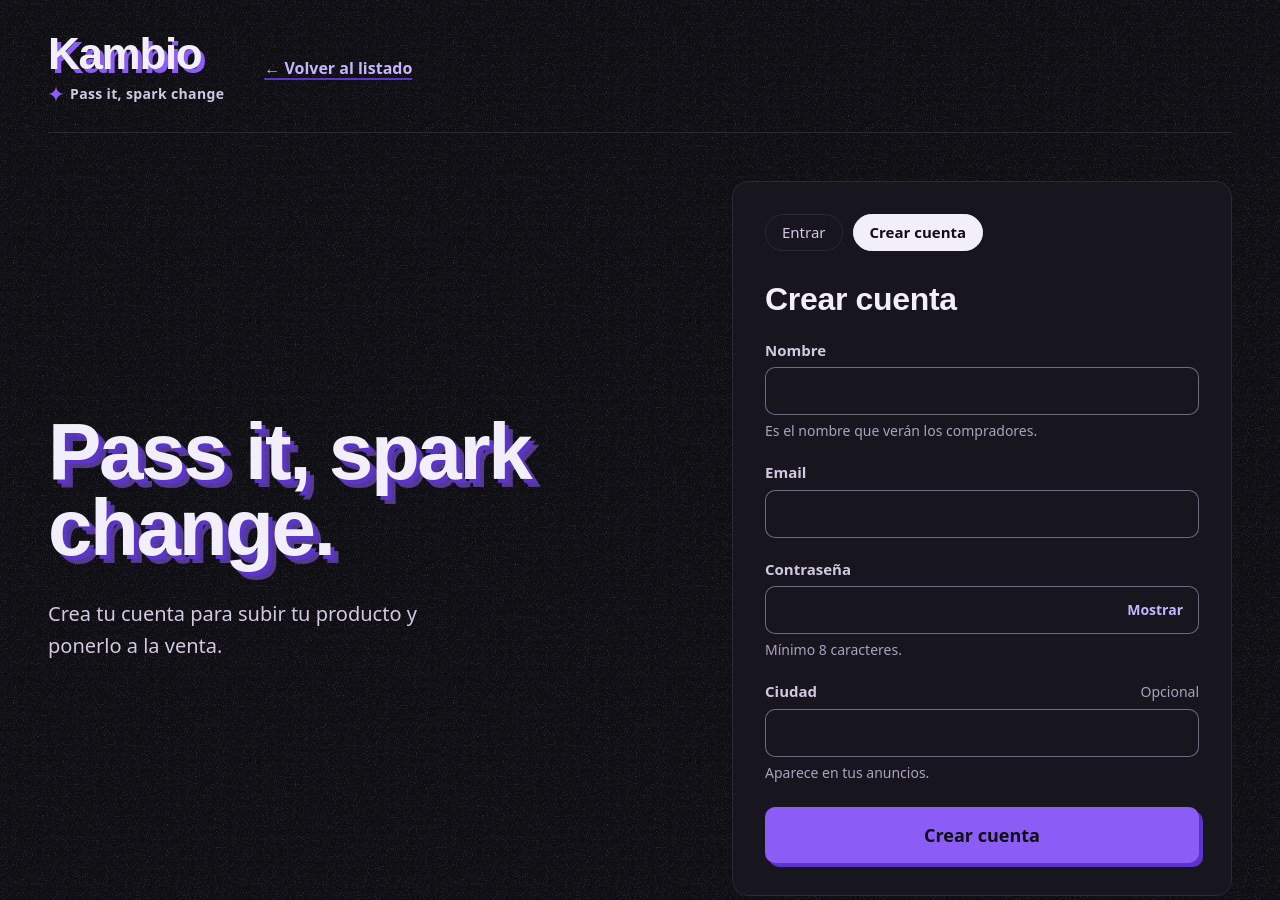
Test: RegisterPage › un email ya registrado se avisa en el campo del email
Type "Ana" into the field labelled "Nombre". click: (982, 391)
box: [765, 367, 1199, 415]
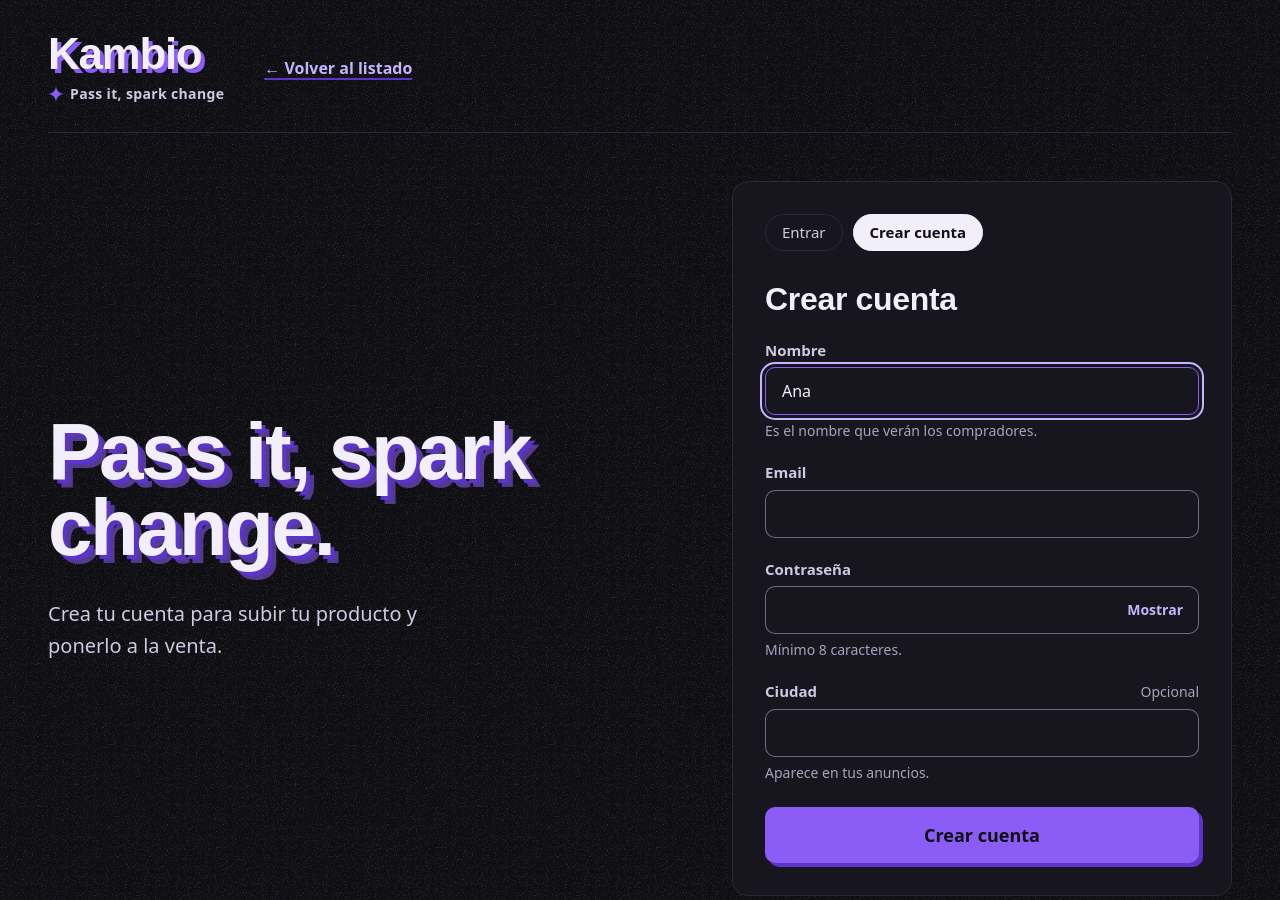
Type "ana@correo.com" into the field labelled "Email". click: (982, 514)
box: [765, 490, 1199, 538]
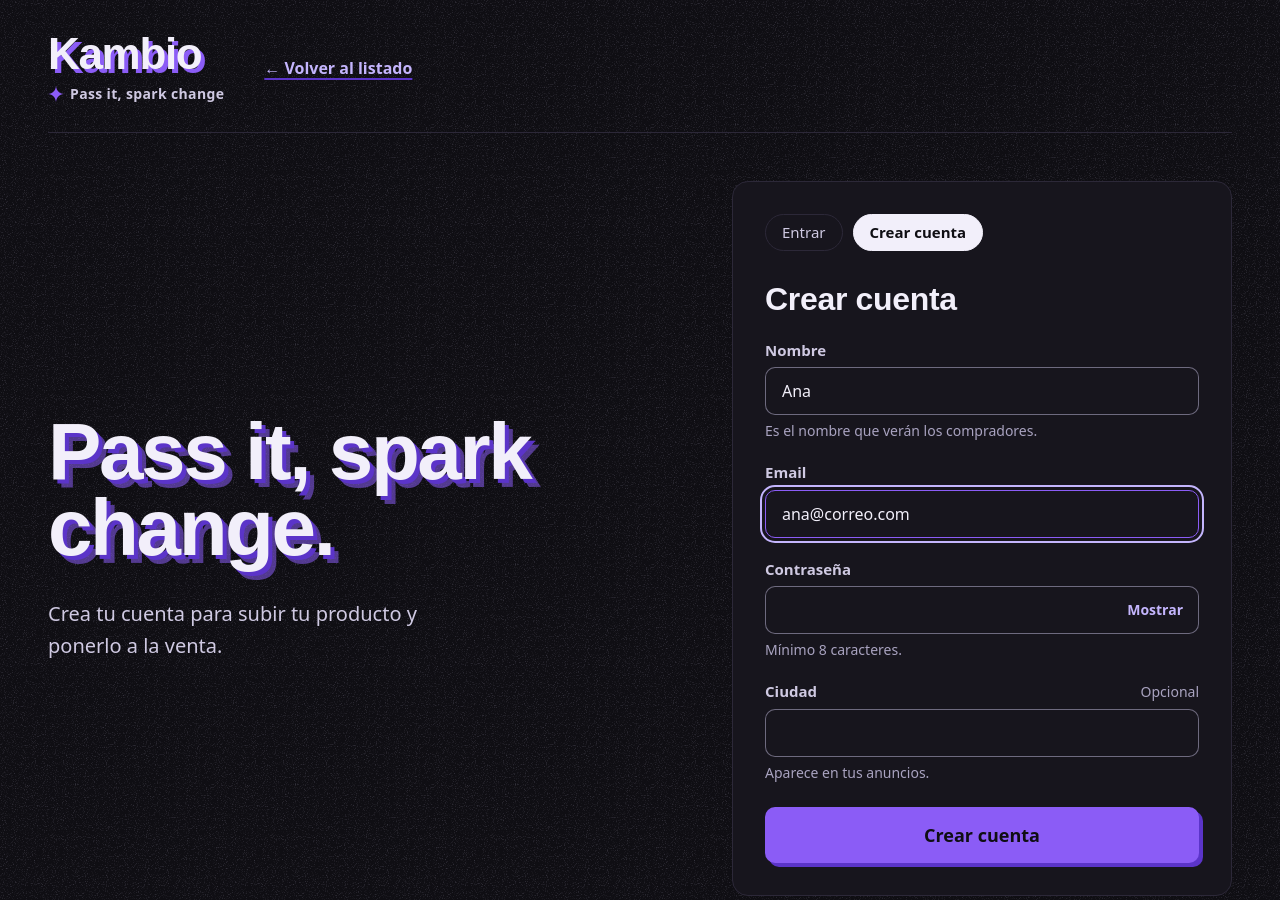
Type "secreto123" into the password field labelled "Contraseña". click: (982, 610)
box: [765, 586, 1199, 634]
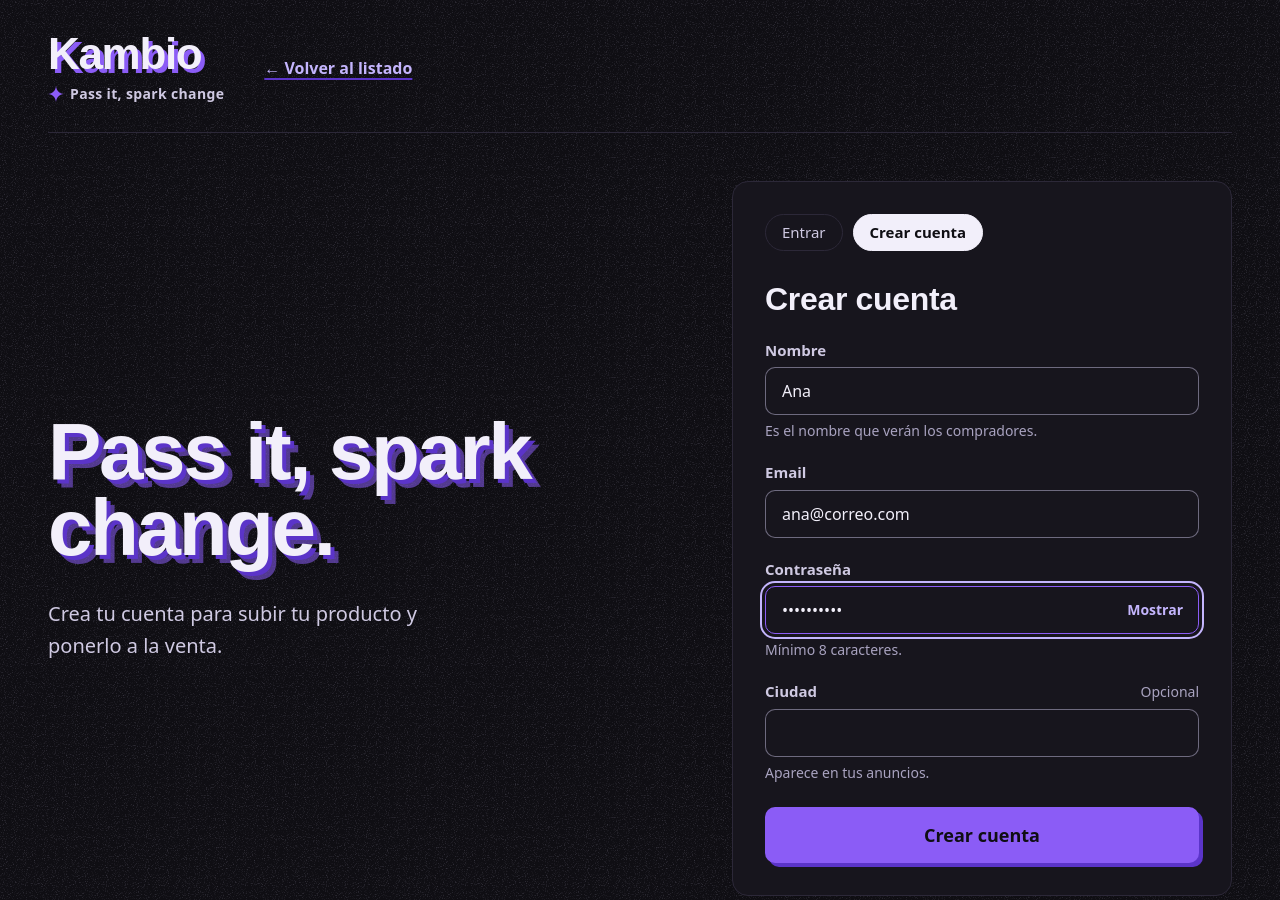
Type " Madrid " into the field labelled "Ciudad Opcional". click: (982, 732)
box: [765, 708, 1199, 756]
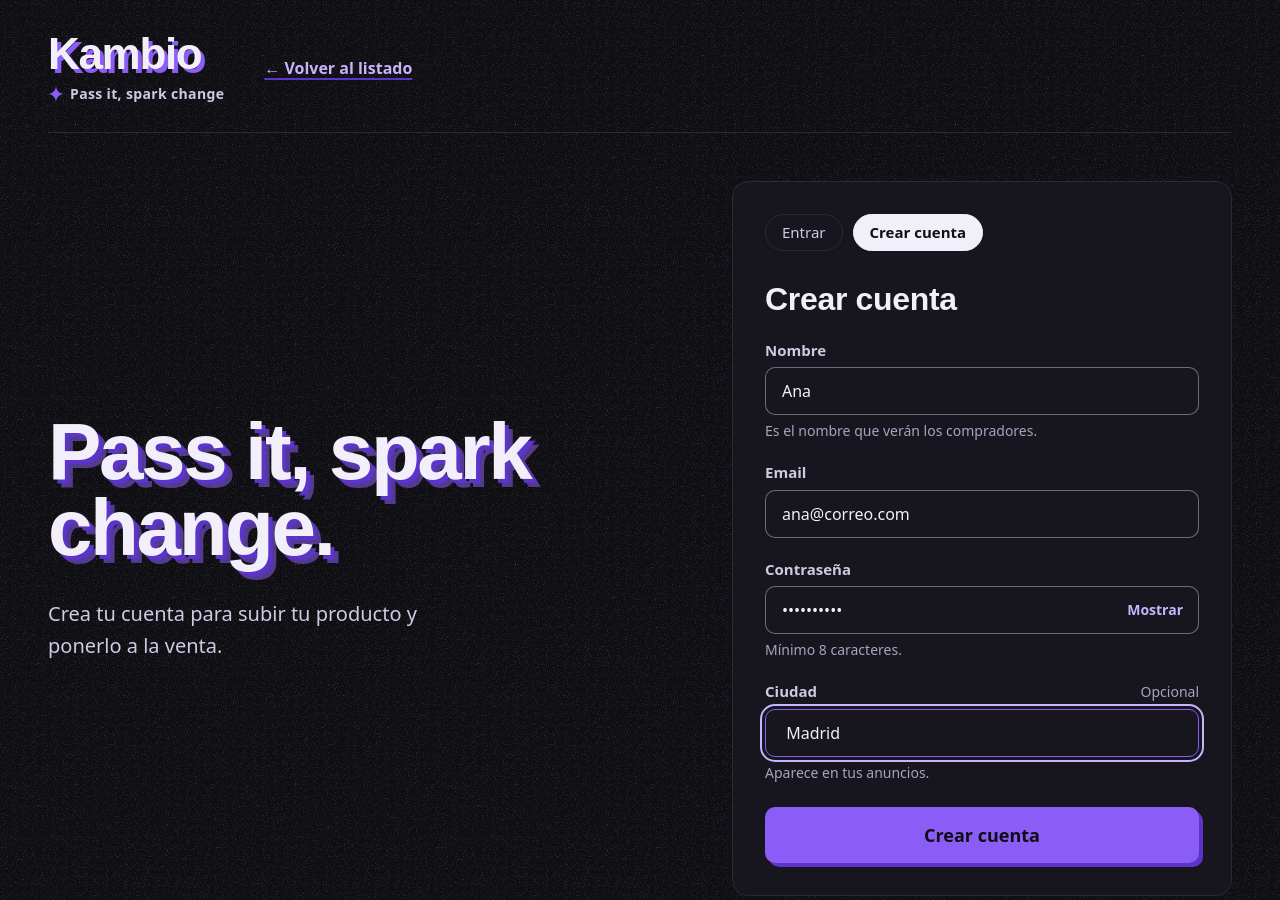
Click the button "Crear cuenta". click: (982, 834)
box: [765, 806, 1199, 862]
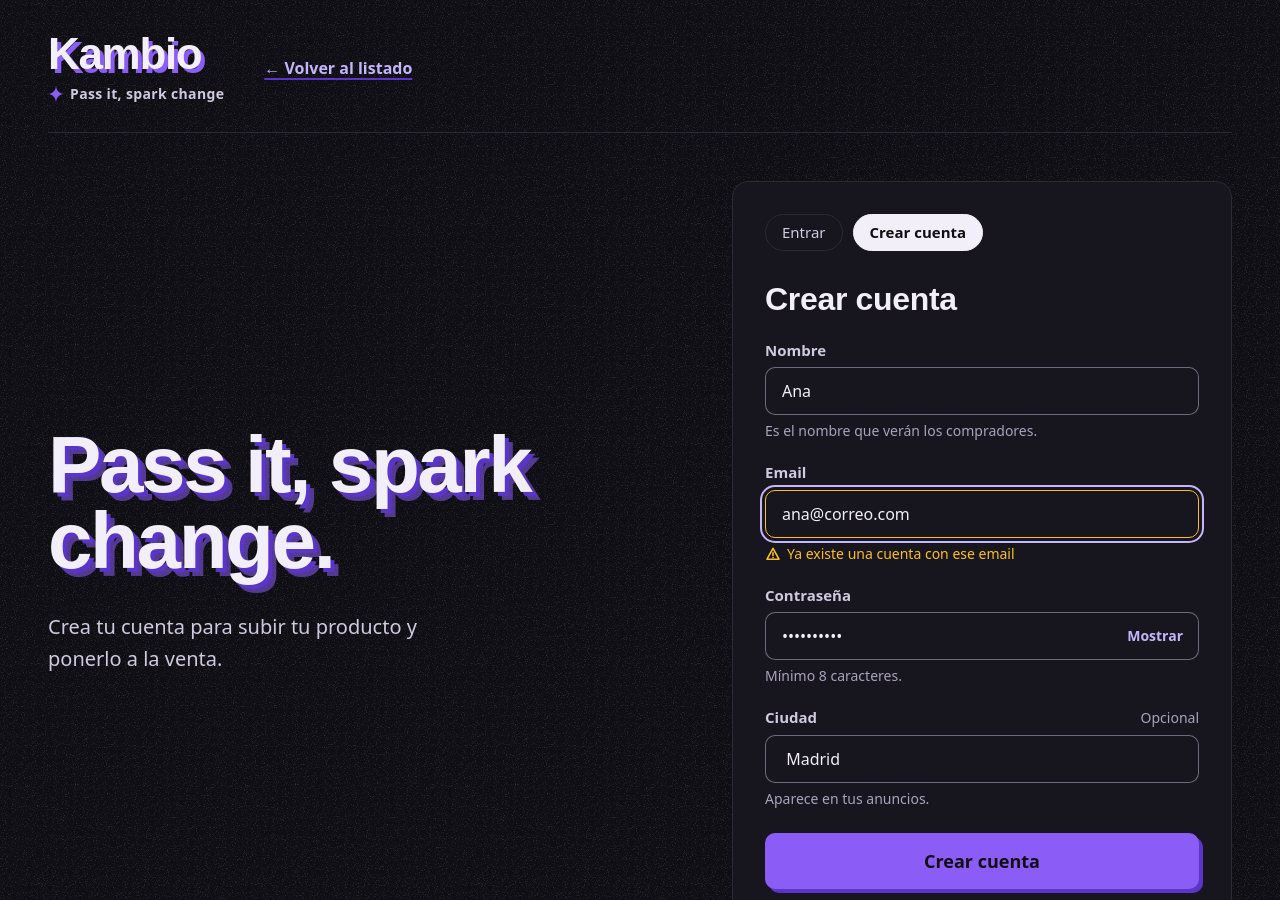
Check: the text "Ya existe una cuenta con ese email" is shown, box [787, 544, 1015, 564]
